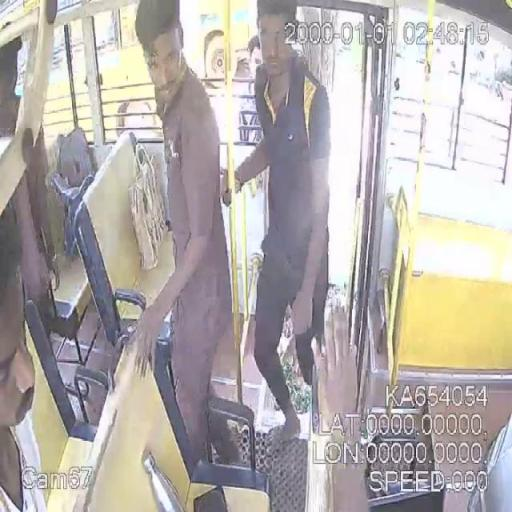persona: (219, 0, 332, 442), (131, 1, 234, 469), (0, 204, 48, 511)
